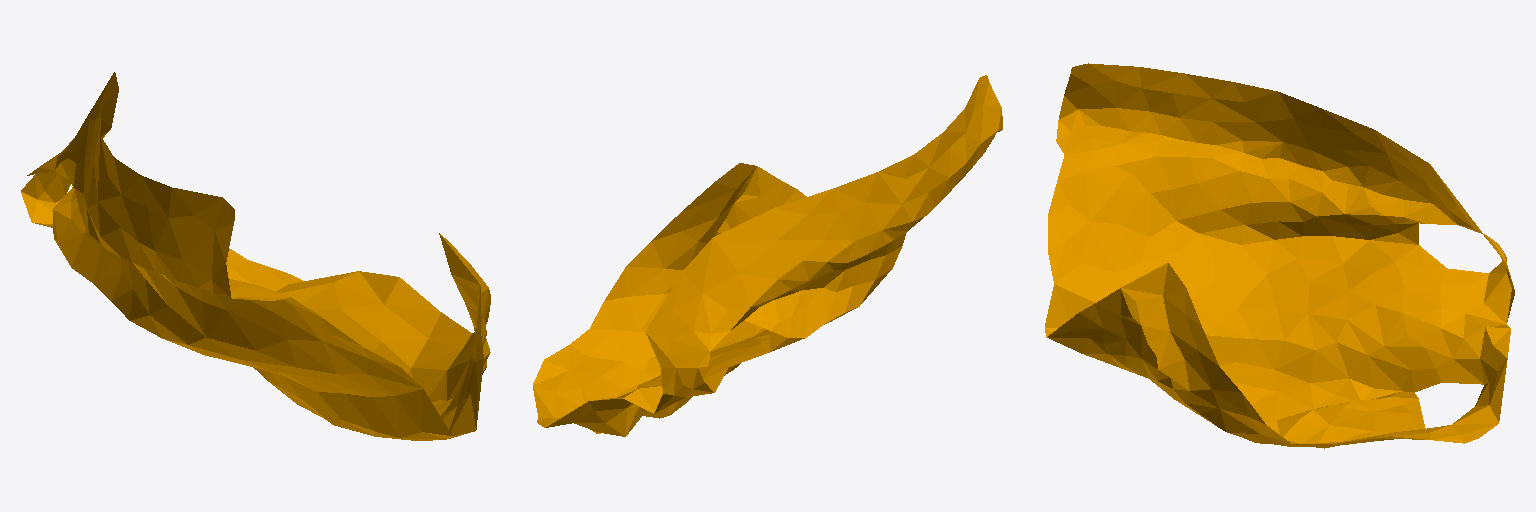
robot.urdf — init:
<?xml version='1.0' encoding='utf-8'?>
<robot name="init">
<link name="link_0"><inertial><mass value="1.0" /><origin rpy="0 0 0" xyz="0.000000 0.000000 0.000000" /><inertia ixx="1.0" ixy="0.0" ixz="0.0" iyy="1.0" iyz="0.0" izz="1.0" /></inertial><visual><origin rpy="0 0 0" xyz="0.000000 0.000000 0.000000" /><geometry><mesh filename="./clothHuman/cloth/690.obj" /></geometry></visual><collision><origin rpy="0 0 0" xyz="0.000000 0.000000 0.000000" /><geometry><mesh filename="./clothHuman/cloth/690.obj" /></geometry></collision></link></robot>

--- Render facts (derived) ---
3 views of the same robot in one strip: view 1: azimuth 30°, elevation 25°; view 2: azimuth 150°, elevation 25°; view 3: azimuth 270°, elevation 25° (orthographic).
Robot: init — 1 links, 0 joints (none); root link link_0; default pose: all joints at 0.
Visible links, largest first — view 1: link_0; view 2: link_0; view 3: link_0.
Boxes of the visible links, box(x1,y1,x2,y2) form: link_0: box(21, 72, 490, 440); link_0: box(533, 75, 1002, 436); link_0: box(1045, 63, 1514, 448).
Bounding box of the posed robot: 2.85 × 3.85 × 2.49 m (x, y, z).
Meshes: 1 distinct files referenced, 1 mesh visuals loaded (1 OBJ).